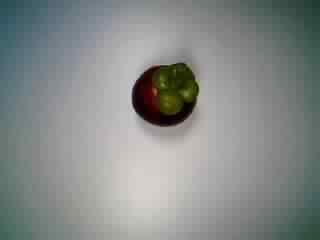mangosteen: (129, 56, 202, 136)
